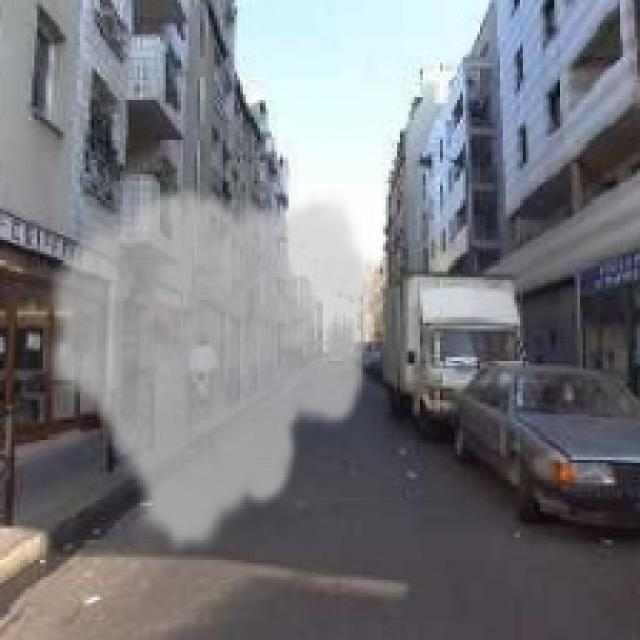smoke: (37, 183, 380, 560)
